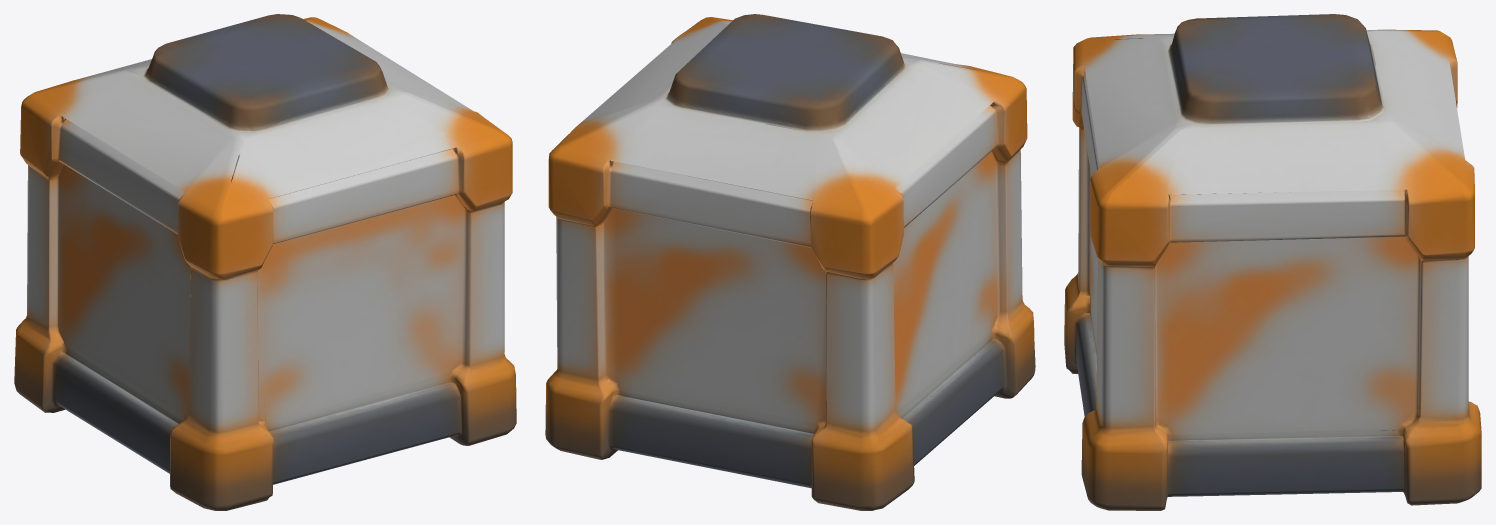
File: camp-cube.glb
The picture shows the model from 3 angles, left to right: view 1: azimuth 30°, elevation 25°; view 2: azimuth 150°, elevation 25°; view 3: azimuth 270°, elevation 25°; orthographic projection. The views are drawn at different scales.
Visible parts, largest first — view 1: tripo_node_3e20a9ac-9057-4f8c-9e47-14821d767d55; view 2: tripo_node_3e20a9ac-9057-4f8c-9e47-14821d767d55; view 3: tripo_node_3e20a9ac-9057-4f8c-9e47-14821d767d55.
Part boxes in pixels (x1,y1,x2,y2): tripo_node_3e20a9ac-9057-4f8c-9e47-14821d767d55: [14, 14, 516, 510]; tripo_node_3e20a9ac-9057-4f8c-9e47-14821d767d55: [545, 14, 1035, 510]; tripo_node_3e20a9ac-9057-4f8c-9e47-14821d767d55: [1064, 14, 1481, 510].
Bounding box in the file's own units: 0.998 × 0.9785 × 0.9863.
1 material, 1 textured.
